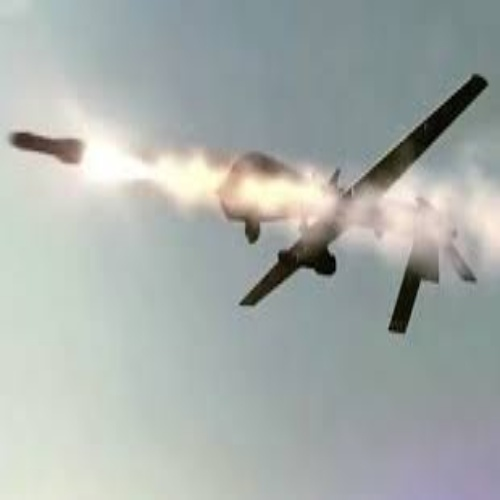uav: (216, 72, 490, 334)
